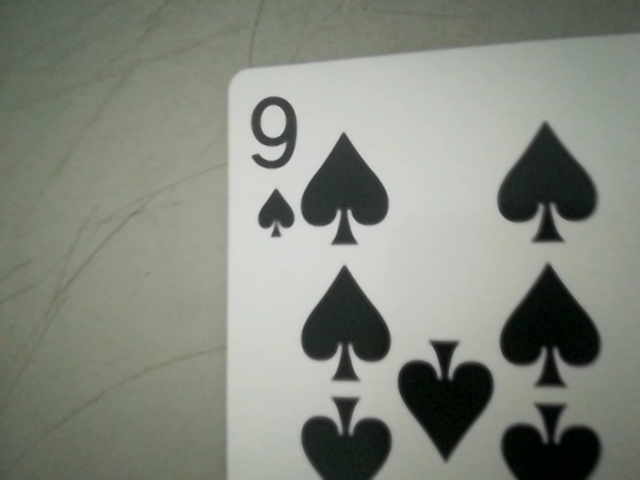ht 9: (230, 82, 311, 250)
